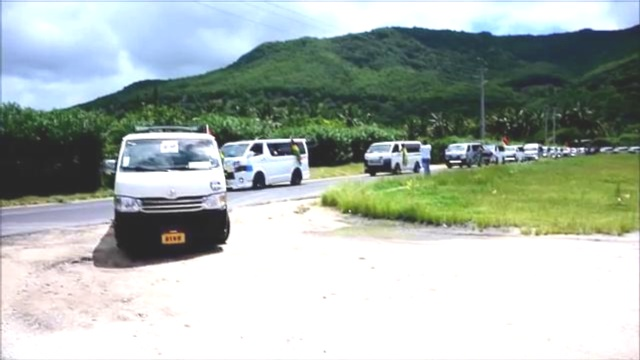van: (107, 123, 229, 257), (219, 133, 316, 193), (360, 137, 427, 173)
